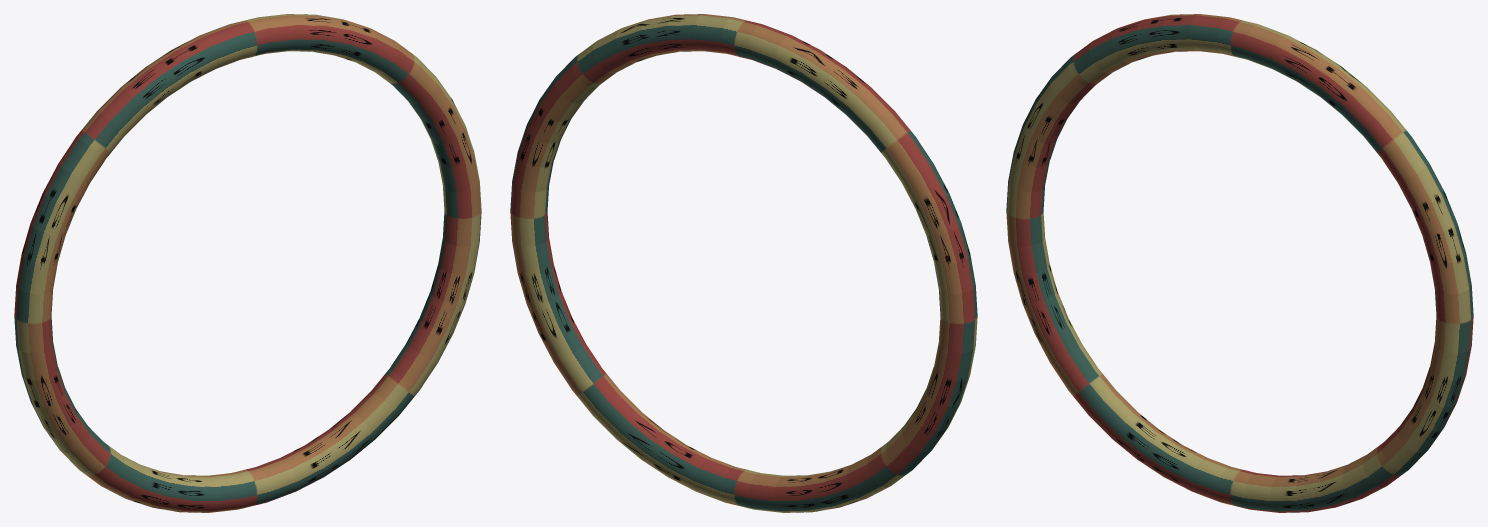
The model's file is texture_torus_R25_r0.glb.
3 views of the same model, side by side, from view 1: azimuth 30°, elevation 25°; view 2: azimuth 150°, elevation 25°; view 3: azimuth 330°, elevation 25° (orthographic).
Parts seen in each view (by area): view 1: world; view 2: world; view 3: world.
Part boxes in pixels (box(x1,y1,x2,y2)): world: box(14, 14, 481, 512); world: box(510, 14, 977, 512); world: box(1006, 14, 1473, 512).
Bounding box in the file's own units: 28.67 × 28.61 × 2.
Materials: 1 (1 with a texture image).
